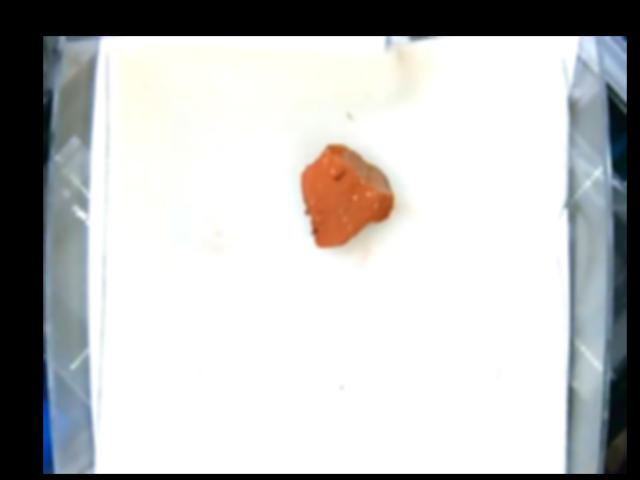Brisk: (301, 141, 394, 246)
